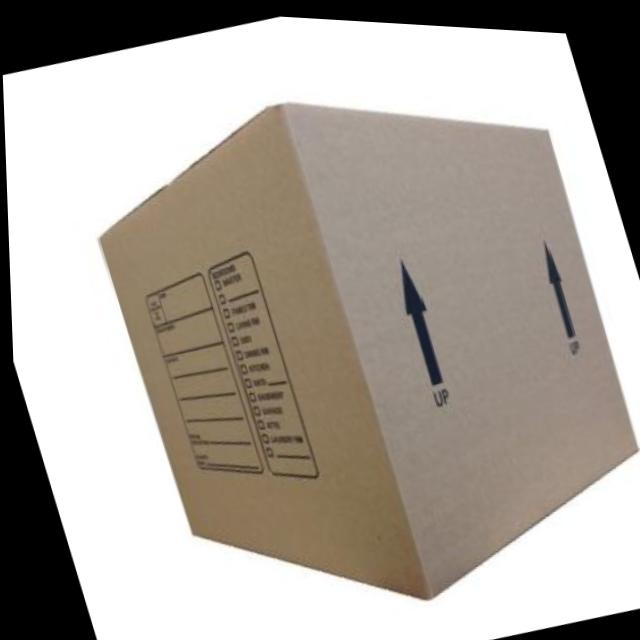box: (43, 16, 640, 640)
